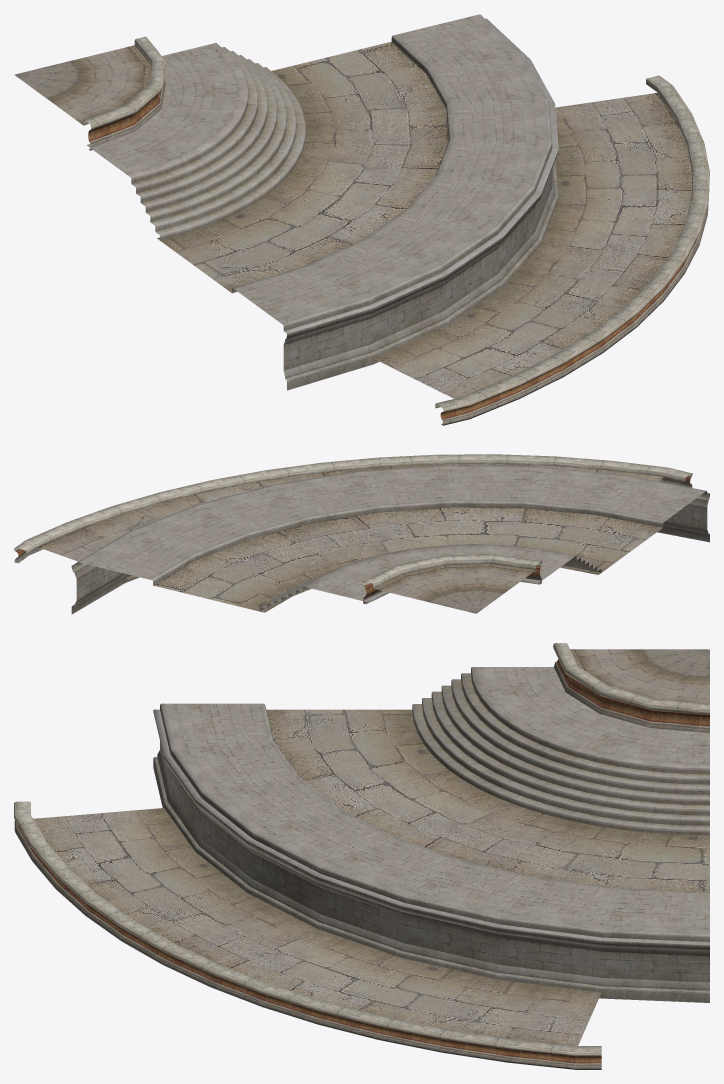
The model's file is Center.fbx.
3 renders of one model, top to bottom at view 1: azimuth 30°, elevation 25°; view 2: azimuth 150°, elevation 25°; view 3: azimuth 270°, elevation 25°, orthographic. The views are drawn at different scales.
Parts seen in each view (by area): view 1: LV_Campagna_City_MiddleSquare02_SM_KSR; view 2: LV_Campagna_City_MiddleSquare02_SM_KSR; view 3: LV_Campagna_City_MiddleSquare02_SM_KSR.
Part boxes in pixels (x1,y1,x2,y2): LV_Campagna_City_MiddleSquare02_SM_KSR: [14, 14, 709, 425]; LV_Campagna_City_MiddleSquare02_SM_KSR: [14, 454, 709, 614]; LV_Campagna_City_MiddleSquare02_SM_KSR: [14, 643, 709, 1069].
Size of the model in its own units: 3.02 by 0.6299 by 3.01.
